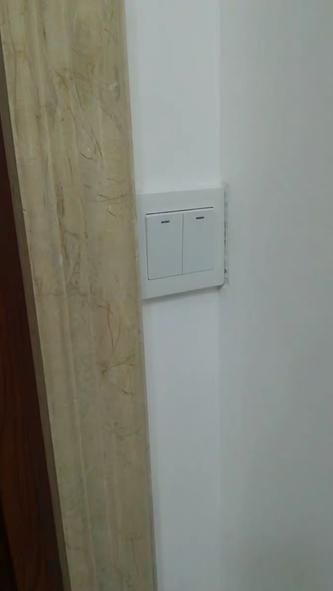switch: (184, 203, 223, 275), (143, 208, 181, 277)
